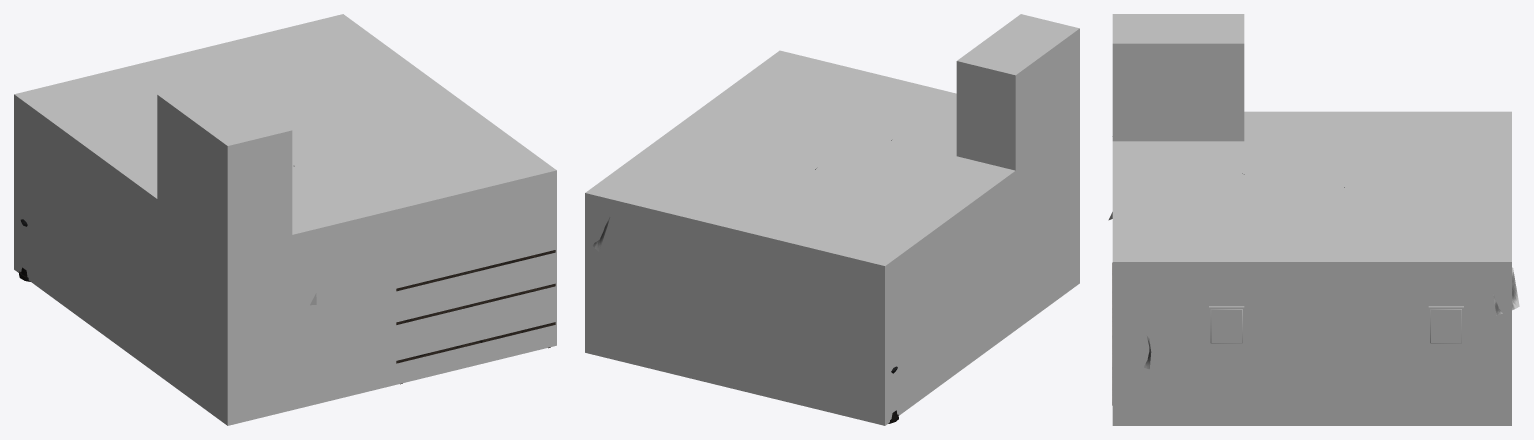
Rendered from basement.FBX.
3 views of the same model, side by side, from view 1: azimuth 30°, elevation 25°; view 2: azimuth 150°, elevation 25°; view 3: azimuth 270°, elevation 25° (orthographic). The views are drawn at different scales.
Visible parts, largest first — view 1: basement, shelf_001; view 2: basement; view 3: basement.
Part boxes in pixels (x1=…): basement: x1=14, y1=14, x2=556, y2=425; shelf_001: x1=396, y1=250, x2=555, y2=384; basement: x1=585, y1=14, x2=1079, y2=425; basement: x1=1112, y1=14, x2=1511, y2=425.
Size of the model in its own units: 34.72 by 27.35 by 38.79.
